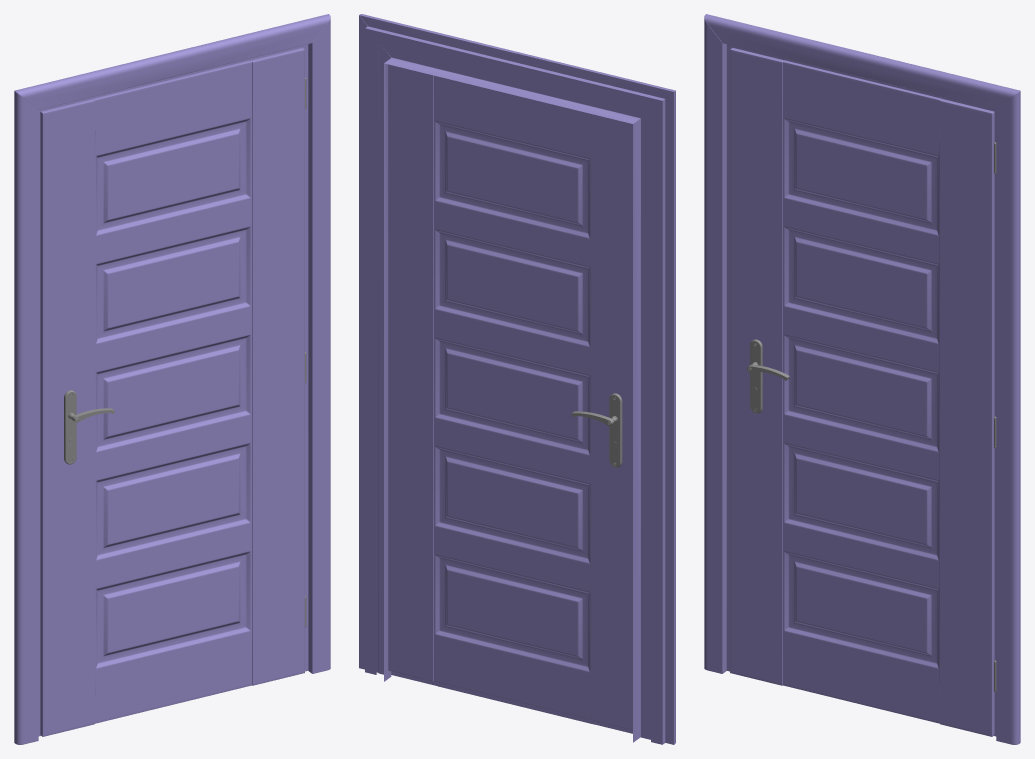
The model's file is door0xzxzx.FBX.
3 views of the same model, side by side, from view 1: azimuth 30°, elevation 25°; view 2: azimuth 150°, elevation 25°; view 3: azimuth 330°, elevation 25° (orthographic).
Parts seen in each view (by area): view 1: door0xzxz01, ru4ka_019; view 2: door0xzxz01, ru4ka_017; view 3: door0xzxz01, ru4ka_019.
Boxes of the visible parts, x1=… form: door0xzxz01: x1=14, y1=14, x2=330, y2=744; ru4ka_019: x1=64, y1=390, x2=79, y2=464; door0xzxz01: x1=359, y1=14, x2=675, y2=744; ru4ka_017: x1=607, y1=393, x2=622, y2=467; door0xzxz01: x1=704, y1=14, x2=1020, y2=744; ru4ka_019: x1=747, y1=339, x2=762, y2=413.
Bounding box in the file's own units: 42.52 × 84.25 × 5.21.
